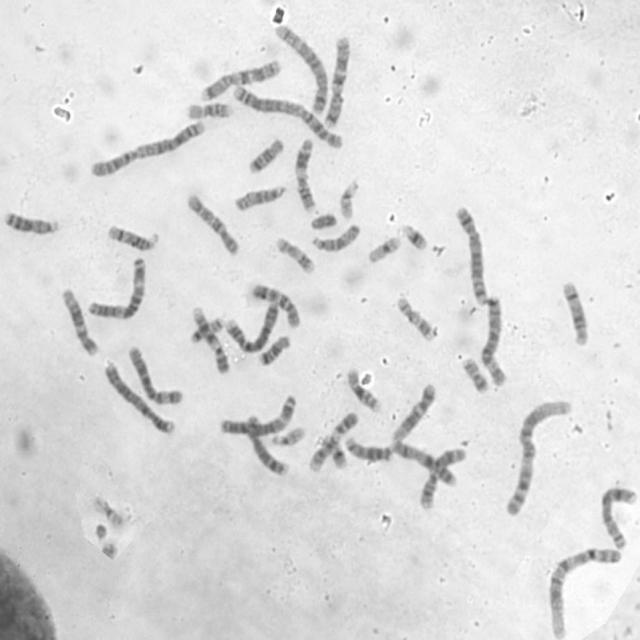A1: (502, 396, 572, 519), (546, 543, 624, 639)
A2: (229, 82, 346, 151), (86, 116, 207, 179)
A3: (84, 254, 148, 321), (216, 392, 298, 438)
B4: (101, 359, 176, 436), (221, 300, 281, 354)
B5: (273, 20, 330, 116), (453, 203, 490, 306)
C10: (184, 190, 241, 256), (249, 280, 301, 329)
C11: (416, 445, 467, 511), (292, 134, 319, 213)
C12: (390, 379, 438, 443), (60, 284, 100, 358)
C6: (126, 343, 185, 406), (478, 293, 509, 388)
C7: (196, 56, 282, 103), (322, 34, 352, 129)
C8: (246, 411, 290, 477), (598, 484, 639, 551)
C9: (306, 409, 359, 473), (189, 302, 231, 375)
D13: (1, 207, 62, 236), (342, 433, 394, 463)
D14: (559, 276, 590, 347), (104, 222, 160, 252)
D15: (310, 220, 362, 253), (232, 182, 288, 212)
E16: (344, 366, 383, 414), (184, 100, 233, 120)
E17: (394, 291, 438, 343), (274, 234, 316, 275)
E18: (246, 135, 286, 175), (255, 332, 291, 367)
F19: (364, 232, 402, 265), (91, 494, 124, 528)
F20: (460, 354, 491, 395), (187, 314, 225, 344)
G21: (319, 432, 349, 471), (399, 219, 431, 251)
G22: (337, 176, 361, 221), (268, 423, 306, 447)
X: (389, 436, 458, 488)
Y: (308, 212, 338, 231)
